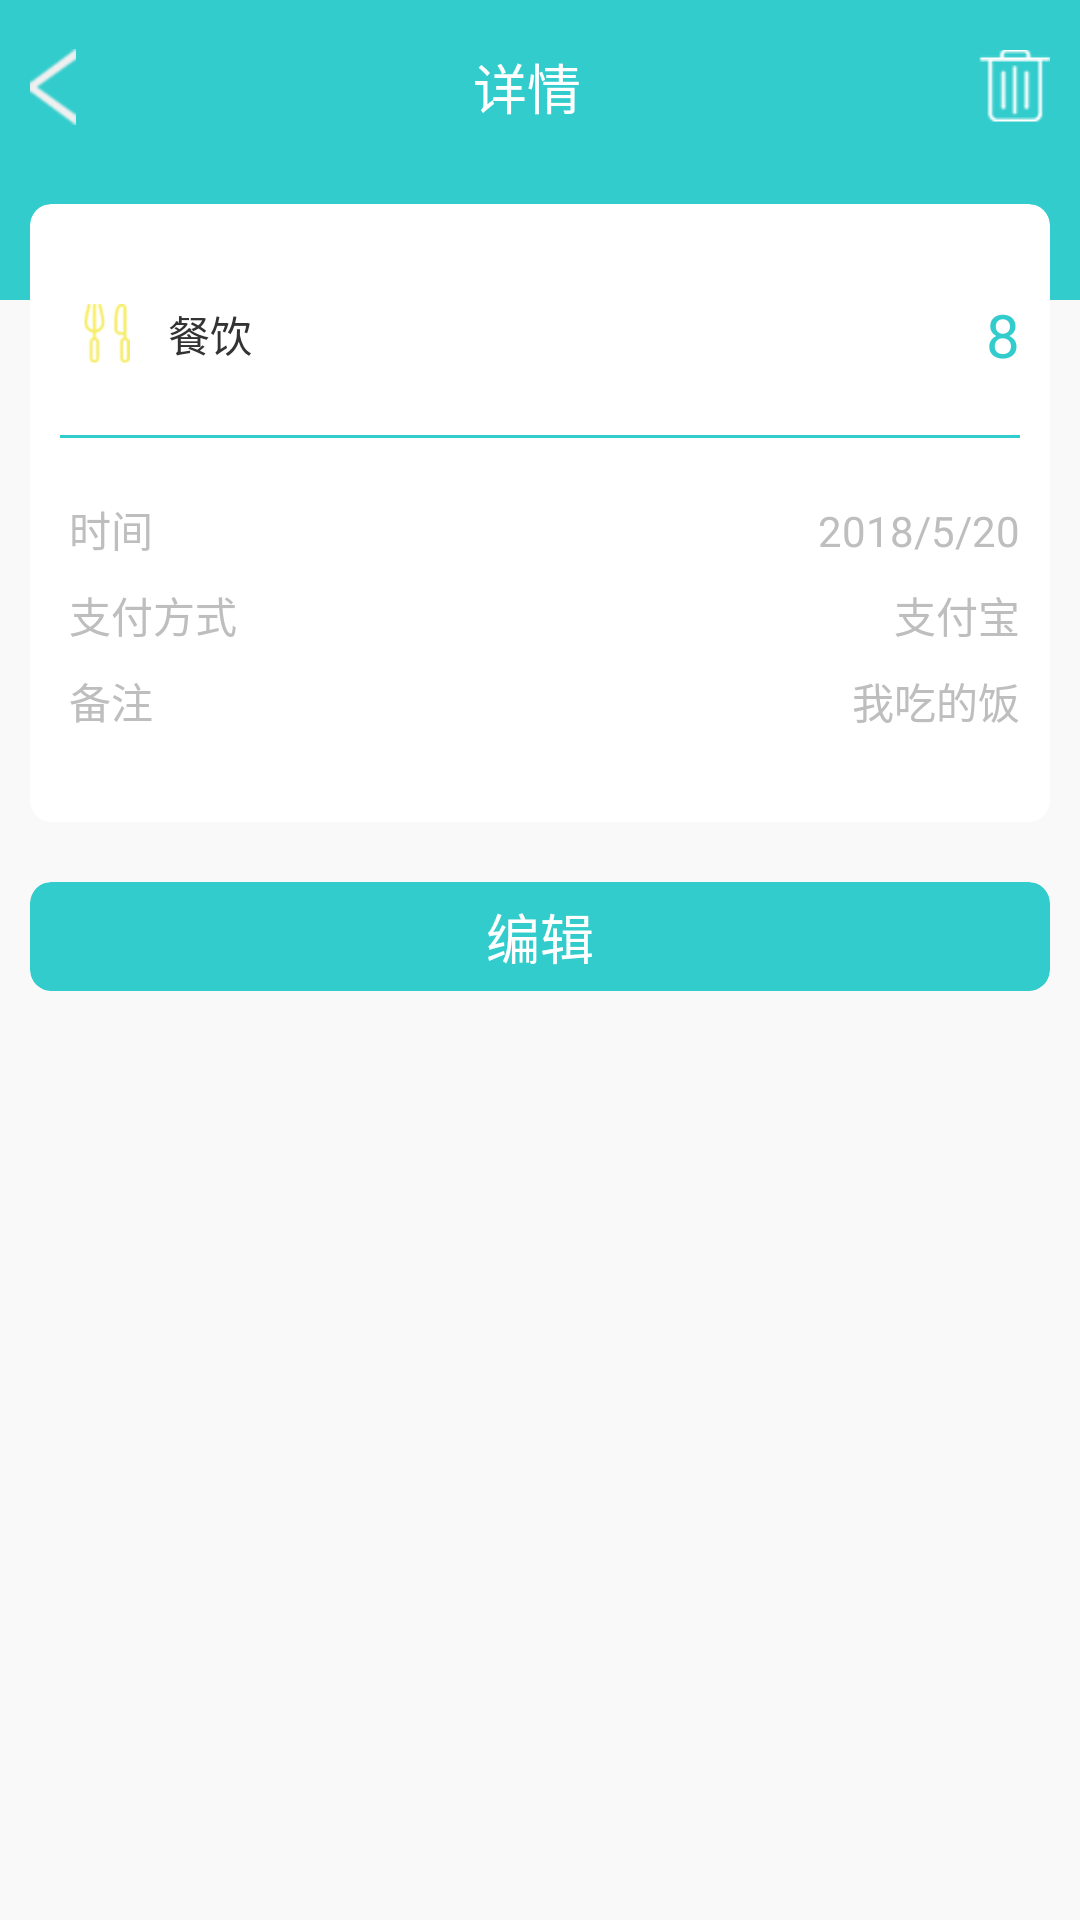

Icons on this 1080x1920 Android screen, each with the point to tap as point (x, y):
delete: point (1014, 86)
food: point (107, 333)
return bar: point (53, 87)
